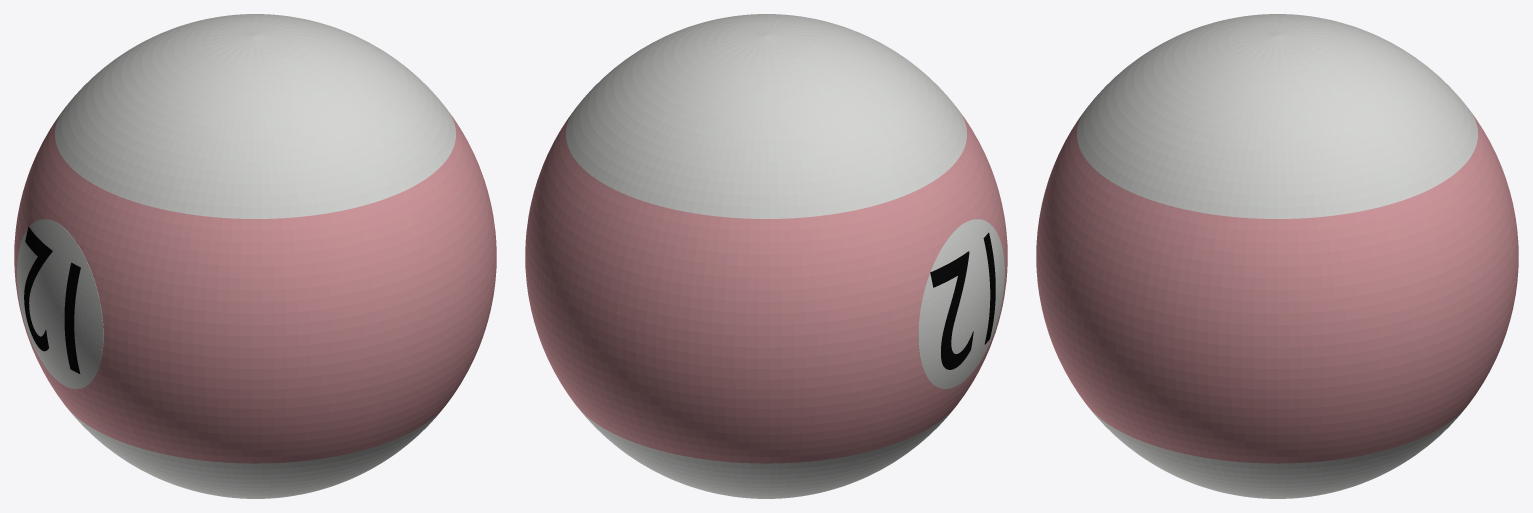
The model's file is Ball#12.fbx.
The picture shows the model from 3 angles, left to right: view 1: azimuth 30°, elevation 25°; view 2: azimuth 150°, elevation 25°; view 3: azimuth 270°, elevation 25°; orthographic projection.
Parts seen in each view (by area): view 1: Sphere, Sphere.001, Text; view 2: Sphere, Sphere.001, Text; view 3: Sphere.
Part boxes in pixels (<box>): Sphere: <box>14,14,496,498</box>; Sphere.001: <box>17,219,103,388</box>; Text: <box>24,226,80,373</box>; Sphere: <box>525,14,1007,498</box>; Sphere.001: <box>918,219,1004,388</box>; Text: <box>930,232,995,369</box>; Sphere: <box>1036,14,1518,498</box>.
Bounding box in the file's own units: 198 × 200 × 198.
